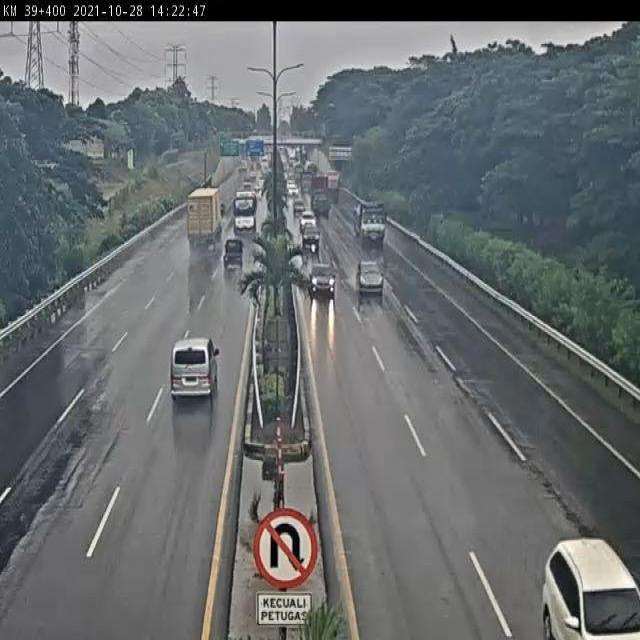big bus: (232, 192, 260, 236)
truck-l-: (353, 202, 387, 250)
truck-xl-: (186, 186, 226, 250)
